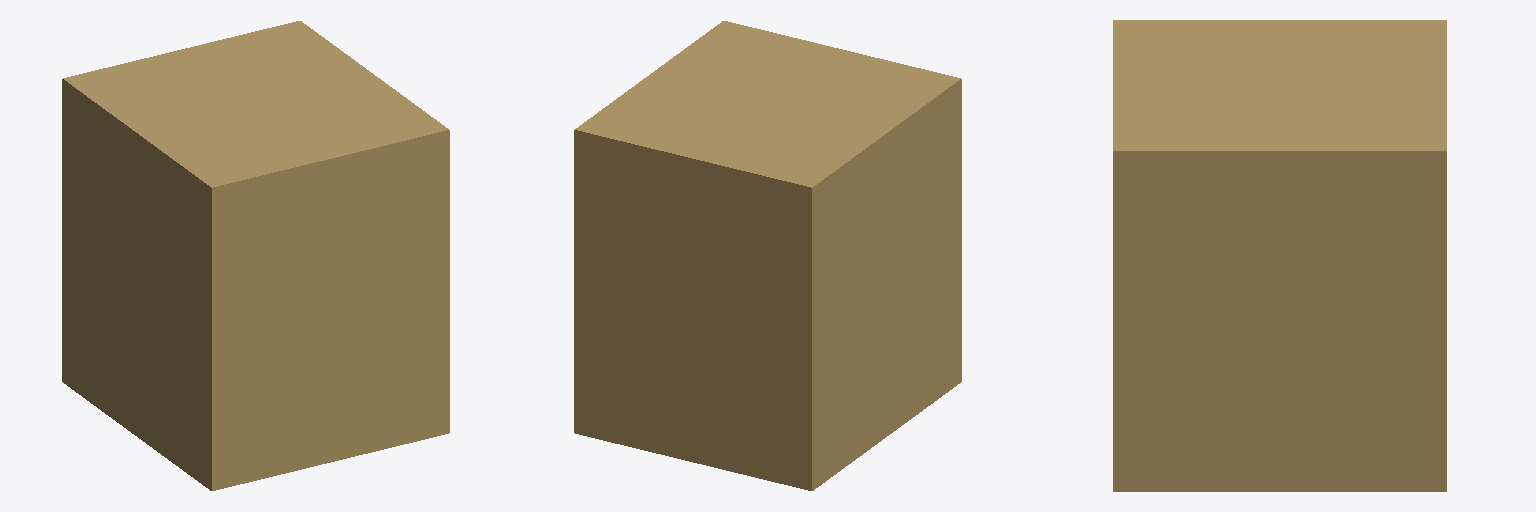
The robot description file, URDF, robot "pushbox":
<?xml version="1.0" ?>
<!--
pushbox: the box pushed in the push-box clips (push_v2_*).

An empty cardboard moving box, 0.46 x 0.50 x 0.561264 m, 1.0 kg nominal. It is a free rigid body so the
robot pushes it physically in simulation; the object_pos_w / object_quat_w trajectories stored in each clip
are the tracking reference. Training randomizes its friction (0.6-0.8) and adds 0.0-0.5 kg of mass.

The link is named box_link because the training scene spawns it at {ENV_REGEX_NS}/Box and the depth and
height-map ray casters target /Box/box_link.
-->
<robot name="pushbox">
  <link name="box_link">
    <inertial>
      <mass value="1.0"/>
      <origin xyz="0 0 0"/>
      <inertia ixx="0.047085" ixy="0" ixz="0" iyy="0.043885" iyz="0" izz="0.038467"/>
    </inertial>
    <contact>
      <lateral_friction value="0.75"/>
      <rolling_friction value="0.05"/>
      <stiffness value="30000"/>
      <damping value="1000"/>
    </contact>
    <visual>
      <origin rpy="0 0 0" xyz="0 0 0"/>
      <geometry>
        <box size="0.46 0.50 0.561264"/>
      </geometry>
      <material name="cardboard">
        <color rgba="0.75 0.65 0.45 1.0"/>
      </material>
    </visual>
    <collision name="pushbox">
      <origin rpy="0 0 0" xyz="0 0 0"/>
      <geometry>
        <box size="0.46 0.50 0.561264"/>
      </geometry>
    </collision>
    <dynamics damping="0.1"/>
  </link>
</robot>

--- What the picture shows (computed from the rendered views, not written in the file) ---
The picture shows the robot from 3 angles, left to right: view 1: azimuth 30°, elevation 25°; view 2: azimuth 150°, elevation 25°; view 3: azimuth 270°, elevation 25°; orthographic projection.
Robot: pushbox — 1 links, 0 joints (none); root link box_link; default pose: every joint at zero.
Visible links, largest first — view 1: box_link; view 2: box_link; view 3: box_link.
Boxes of the visible links, x1,y1,x2,y2 form: box_link: (62,21,449,490); box_link: (574,21,961,490); box_link: (1113,20,1446,491).
Size in the robot's own frame: 0.46 by 0.5 by 0.5613 metres.
Geometry: primitives only (box / cylinder / sphere), no mesh files.
